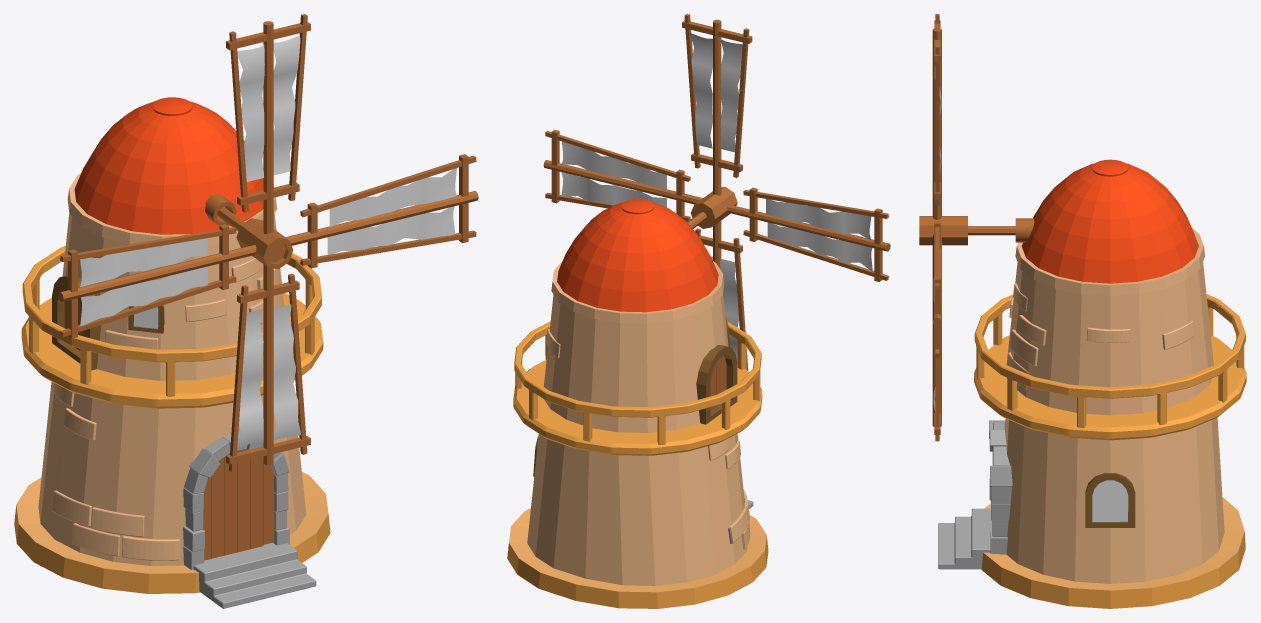
File: Windmill.fbx
3 renders of one model, left to right at view 1: azimuth 30°, elevation 25°; view 2: azimuth 150°, elevation 25°; view 3: azimuth 270°, elevation 25°, orthographic. The views are drawn at different scales.
Parts seen in each view (by area): view 1: polySurface33, polySurface32, pCylinder2, pCylinder3, Door1, Stair, DoorFrame1, polySurface36, polySurface11, polySurface25, polySurface12, polySurface19 (+29 smaller); view 2: polySurface33, polySurface32, pCylinder2, pCylinder3, polySurface11, polySurface18, polySurface19, polySurface12, polySurface26, polySurface25, DoorFrame2, polySurface13 (+14 smaller); view 3: polySurface33, polySurface32, pCylinder2, pCylinder3, Stair, DoorFrame1, Window2, polySurface10, WindowFrame2, polySurface13, polySurface15, Brick3 (+7 smaller).
Part boxes in pixels (<box>): polySurface33: <box>14,173,330,593</box>; polySurface32: <box>74,101,263,234</box>; pCylinder2: <box>21,293,323,408</box>; pCylinder3: <box>22,246,321,396</box>; Door1: <box>203,449,274,560</box>; Stair: <box>193,542,316,608</box>; DoorFrame1: <box>183,433,289,569</box>; polySurface36: <box>273,304,300,440</box>; polySurface11: <box>273,35,300,175</box>; polySurface25: <box>327,206,455,254</box>; polySurface12: <box>237,45,264,181</box>; polySurface19: <box>80,266,207,325</box>; polySurface33: <box>507,261,768,608</box>; polySurface32: <box>557,202,718,312</box>; pCylinder2: <box>513,359,762,455</box>; pCylinder3: <box>514,321,761,444</box>; polySurface11: <box>689,33,712,148</box>; polySurface18: <box>766,199,871,240</box>; polySurface19: <box>767,222,872,271</box>; polySurface12: <box>720,39,742,152</box>; polySurface26: <box>562,141,666,189</box>; polySurface25: <box>561,172,666,207</box>; DoorFrame2: <box>696,345,737,424</box>; polySurface13: <box>713,19,721,195</box>; polySurface33: <box>981,227,1245,608</box>; polySurface32: <box>1021,163,1198,283</box>; pCylinder2: <box>974,335,1246,440</box>; pCylinder3: <box>974,294,1245,427</box>; Stair: <box>938,508,992,569</box>; DoorFrame1: <box>989,420,1012,554</box>; Window2: <box>1092,480,1128,521</box>; polySurface10: <box>919,216,967,245</box>; WindowFrame2: <box>1085,472,1135,527</box>; polySurface13: <box>932,27,941,219</box>; polySurface15: <box>935,45,939,205</box>; Brick3: <box>1086,327,1130,342</box>.
Size of the model in its own units: 3.3 by 4.39 by 2.5.
4 materials, 3 textured.
